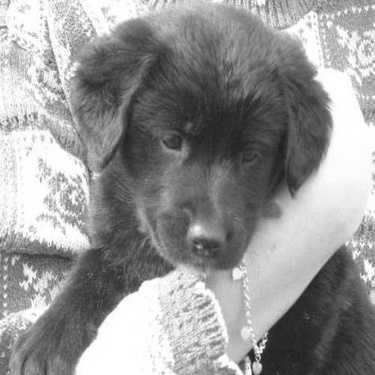dog: (4, 4, 371, 371)
